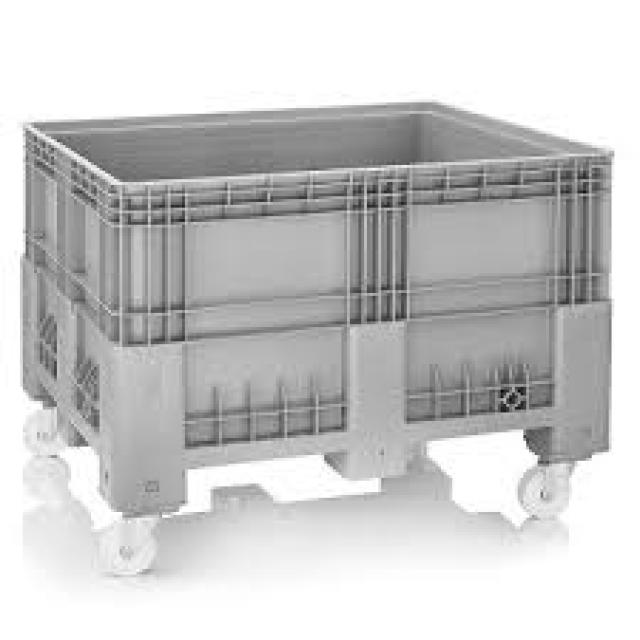basket: (18, 100, 621, 576)
